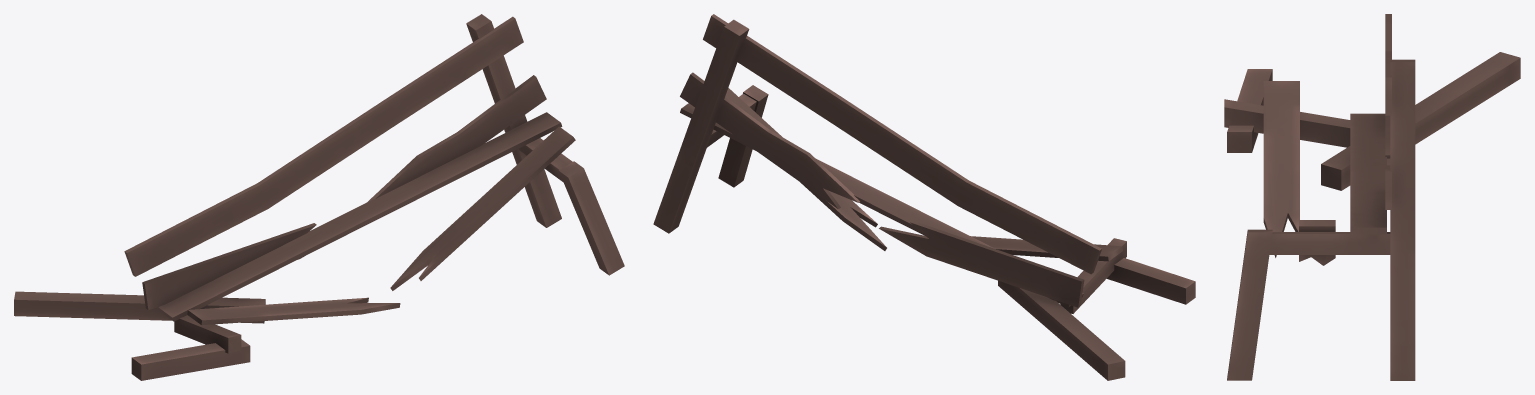
The model's file is Bench_3.fbx.
The picture shows the model from 3 angles, left to right: view 1: azimuth 30°, elevation 25°; view 2: azimuth 150°, elevation 25°; view 3: azimuth 270°, elevation 25°; orthographic projection. The views are drawn at different scales.
Parts seen in each view (by area): view 1: Bench_3; view 2: Bench_3; view 3: Bench_3.
Boxes of the visible parts, box(x1,y1,x2,y2) form: Bench_3: box(14, 14, 624, 380); Bench_3: box(653, 14, 1195, 380); Bench_3: box(1224, 14, 1520, 380).
Size of the model in its own units: 72.53 by 30.56 by 28.84.
